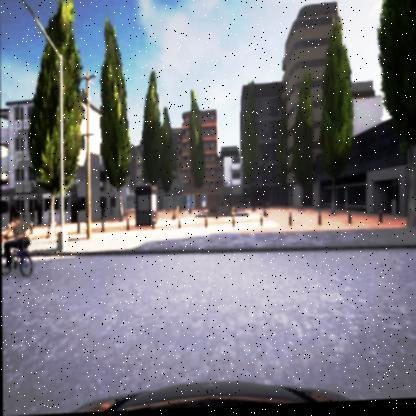bike: (1, 213, 33, 281)
